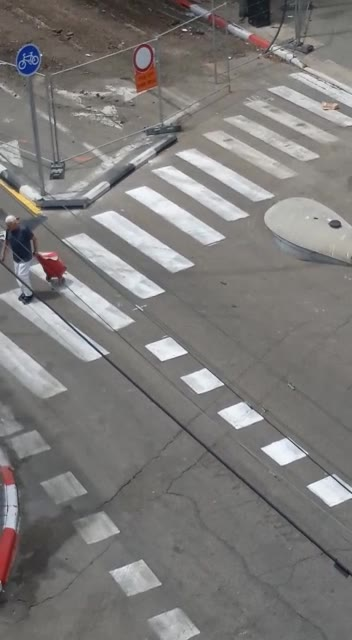crosswalk: (59, 72, 286, 356)
person: (1, 202, 78, 311)
